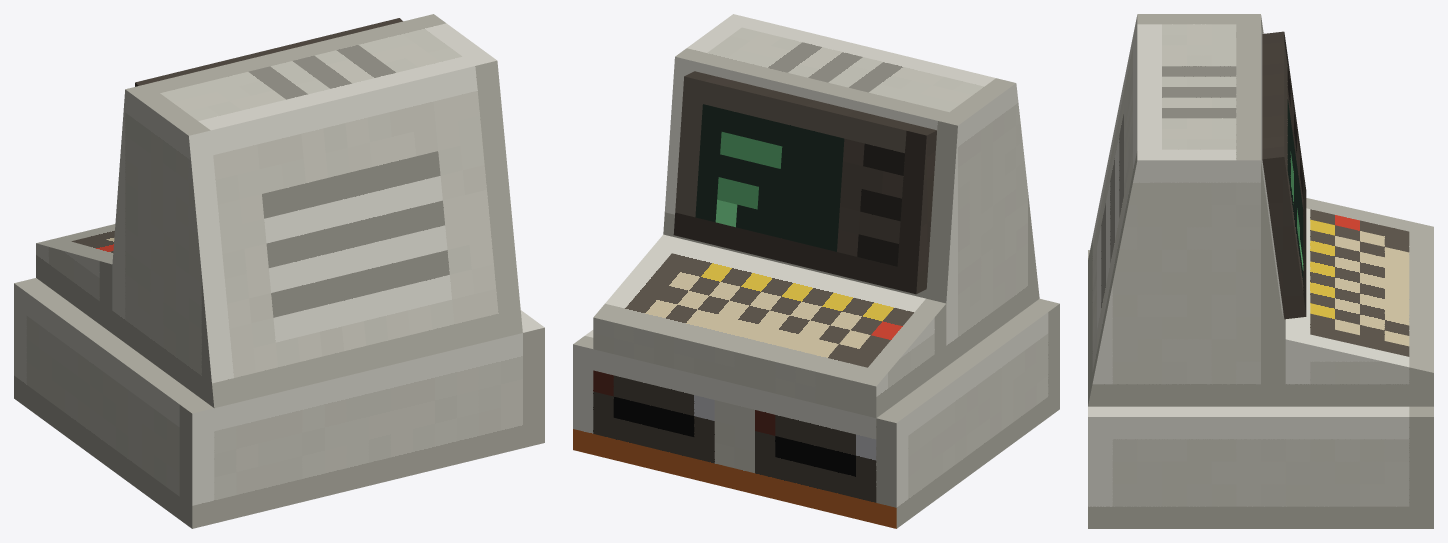
Rendered from era5_floppy_terminal_double_sided.obj.
The picture shows the model from 3 angles, left to right: view 1: azimuth 30°, elevation 25°; view 2: azimuth 150°, elevation 25°; view 3: azimuth 270°, elevation 25°; orthographic projection. The views are drawn at different scales.
Visible parts, largest first — view 1: era5_floppy_terminal; view 2: era5_floppy_terminal; view 3: era5_floppy_terminal.
Boxes of the visible parts, x1,y1,x2,y2 form: era5_floppy_terminal: (14,14,544,528); era5_floppy_terminal: (573,14,1059,528); era5_floppy_terminal: (1088,14,1433,528).
Size of the model in its own units: 1 by 1 by 0.875.
